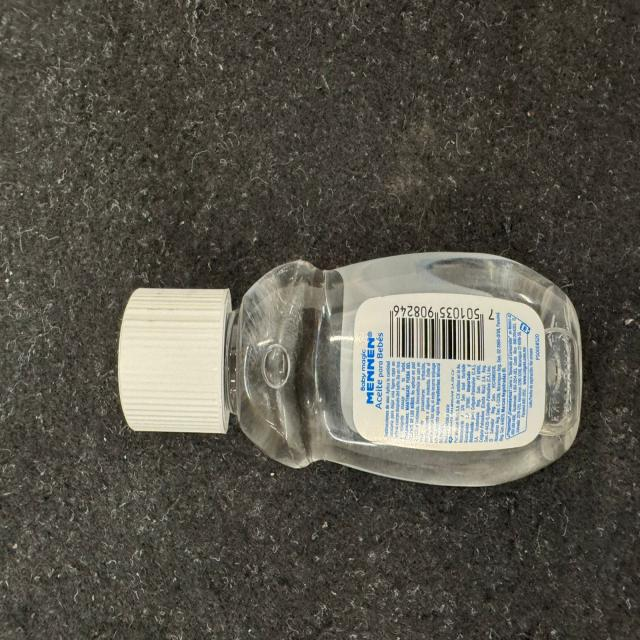Aceite para bebe Baby Magic Mennen 100 ml bote: (115, 249, 586, 491)
